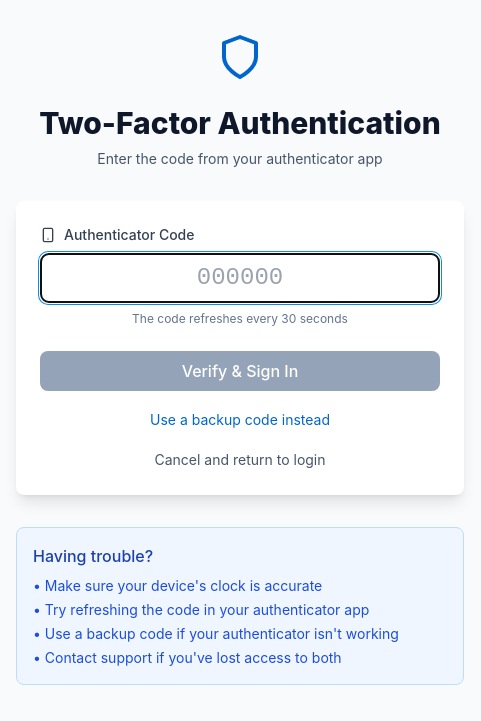
Scenario: TwoFactorVerification › Backup Code Input › accepts only hexadecimal characters and limits to 8 characters
Click the button "Use a backup code instead" at (240, 420), box [150,410,330,430]
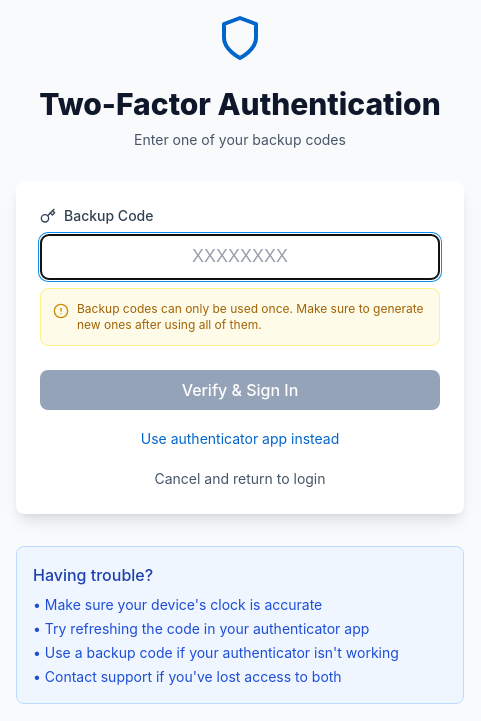
// Type mixed characters, should only accept hex and convert to uppercase
Type "abc123xyz789" into the field with placeholder "XXXXXXXX" at (240, 257), box [40,234,440,280]
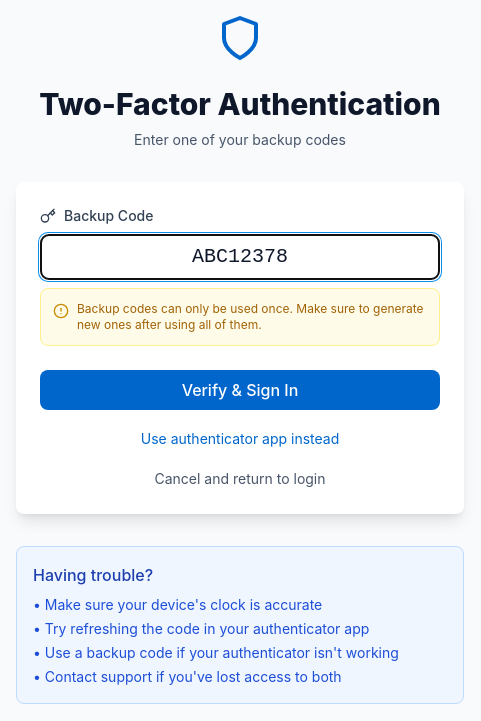
Check: the field with placeholder "XXXXXXXX" holds "ABC12378", box [40,234,440,280]
